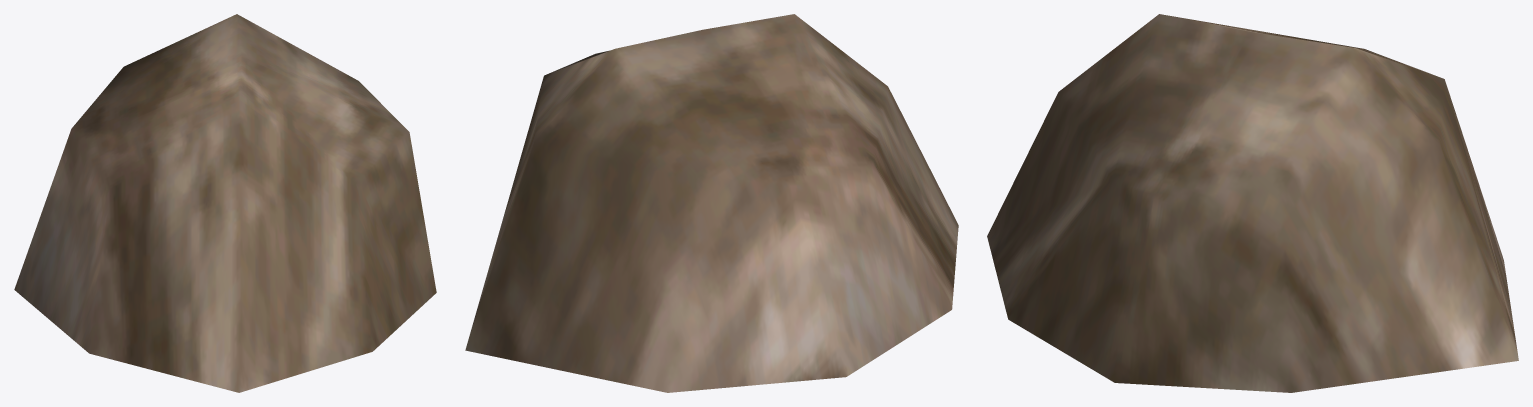
File: OVERHILL_A_01_ROCK97.fbx
3 renders of one model, left to right at view 1: azimuth 30°, elevation 25°; view 2: azimuth 150°, elevation 25°; view 3: azimuth 270°, elevation 25°, orthographic. The views are drawn at different scales.
Visible parts, largest first — view 1: OVERHILL_A_01_ROCK97; view 2: OVERHILL_A_01_ROCK97; view 3: OVERHILL_A_01_ROCK97.
Boxes of the visible parts, bbox=[...] form: OVERHILL_A_01_ROCK97: bbox=[14, 14, 436, 392]; OVERHILL_A_01_ROCK97: bbox=[465, 14, 958, 392]; OVERHILL_A_01_ROCK97: bbox=[987, 14, 1518, 392].
Bounding box in the file's own units: 6636 × 4301 × 7502.
1 material, 1 textured.
